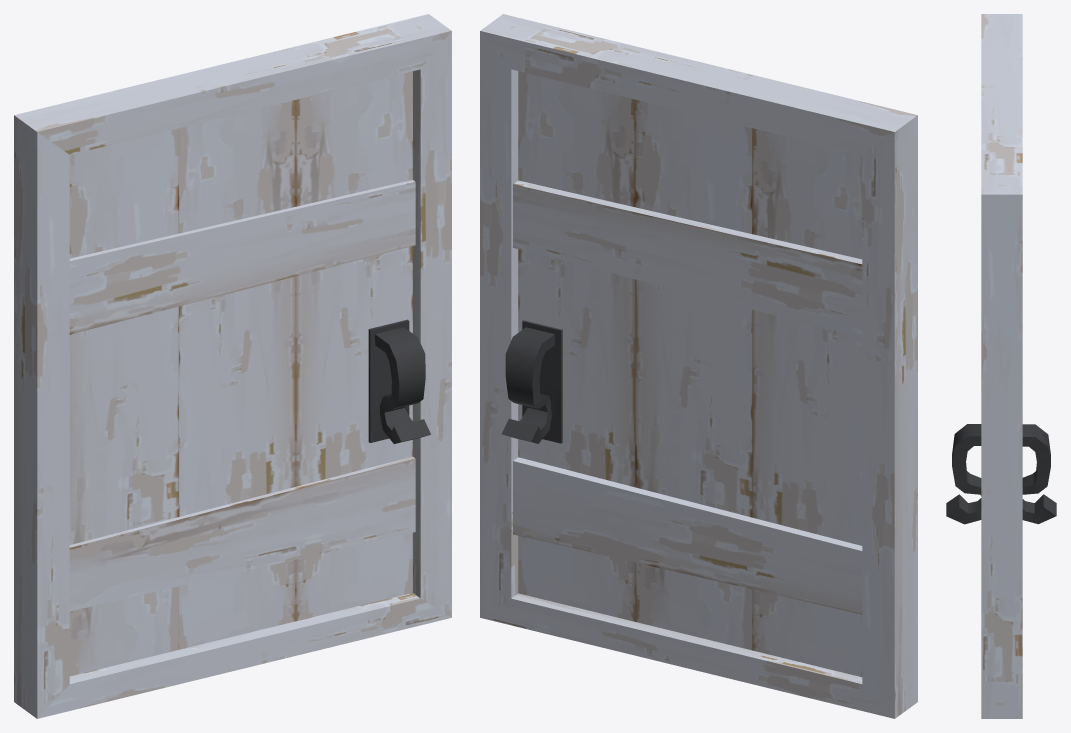
Rendered from MOD_Door_03_01.fbx.
The picture shows the model from 3 angles, left to right: view 1: azimuth 30°, elevation 25°; view 2: azimuth 150°, elevation 25°; view 3: azimuth 270°, elevation 25°; orthographic projection. The views are drawn at different scales.
Visible parts, largest first — view 1: MOD_Door_03_01; view 2: MOD_Door_03_01; view 3: MOD_Door_03_01.
Part boxes in pixels (x1,y1,x2,y2): MOD_Door_03_01: (14, 14, 451, 718); MOD_Door_03_01: (480, 14, 917, 718); MOD_Door_03_01: (946, 14, 1056, 718).
Bounding box in the file's own units: 176 × 238 × 45.45.
